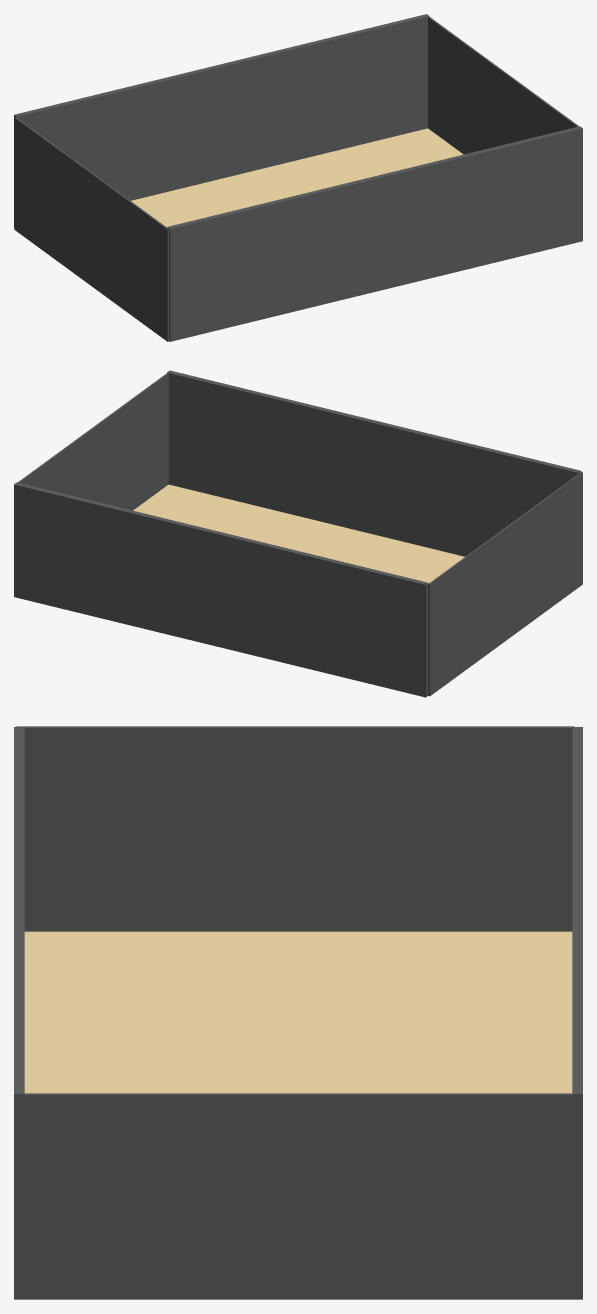
The model's file is cafteria.fbx.
3 renders of one model, top to bottom at view 1: azimuth 30°, elevation 25°; view 2: azimuth 150°, elevation 25°; view 3: azimuth 270°, elevation 25°, orthographic. The views are drawn at different scales.
Visible parts, largest first — view 1: wall4.003, wall4.002, wall6.003, wall6.002, Floor.001; view 2: wall4.002, wall4.003, wall6.003, wall6.002, Floor.001; view 3: wall6.002, wall6.003, Floor.001, wall4.002, wall4.003.
Boxes of the visible parts, left/top/right/bottom form: wall4.003: left=167, top=126, right=582, bottom=341; wall4.002: left=14, top=14, right=429, bottom=227; wall6.003: left=14, top=117, right=169, bottom=341; wall6.002: left=428, top=17, right=578, bottom=154; Floor.001: left=131, top=128, right=463, bottom=227; wall4.002: left=14, top=482, right=428, bottom=697; wall4.003: left=167, top=370, right=581, bottom=556; wall6.003: left=428, top=472, right=582, bottom=696; wall6.002: left=18, top=373, right=168, bottom=510; Floor.001: left=133, top=484, right=464, bottom=583; wall6.002: left=24, top=1093, right=572, bottom=1299; wall6.003: left=16, top=726, right=574, bottom=931; Floor.001: left=24, top=931, right=572, bottom=1093; wall4.002: left=572, top=727, right=582, bottom=1299; wall4.003: left=14, top=727, right=24, bottom=1299.
Bounding box in the file's own units: 10630 × 2765 × 6936.
